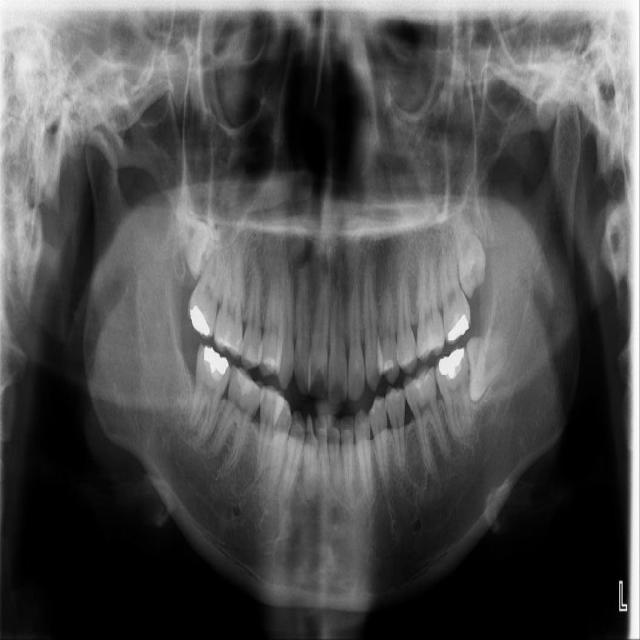3M ESPE Implant: (167, 194, 224, 280)
52: (216, 360, 274, 416), (183, 341, 241, 396), (422, 341, 479, 395), (430, 294, 484, 347), (182, 285, 220, 343), (212, 307, 246, 360)
73: (602, 584, 610, 604)
BioHorizons Implant: (434, 236, 474, 345)
BioLife Implant: (451, 213, 490, 298)
Biomet 3i Implant: (463, 333, 512, 403)
Blue Sky Bio Implant: (433, 345, 474, 442)
Caries: (182, 222, 231, 343)
Implant: (184, 343, 234, 449)
